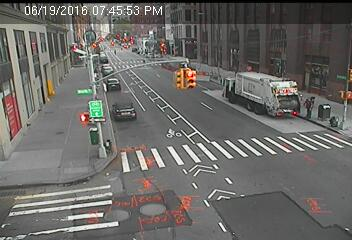neg: (157, 38, 169, 54), (94, 39, 102, 50)
pos: (301, 95, 317, 117)
